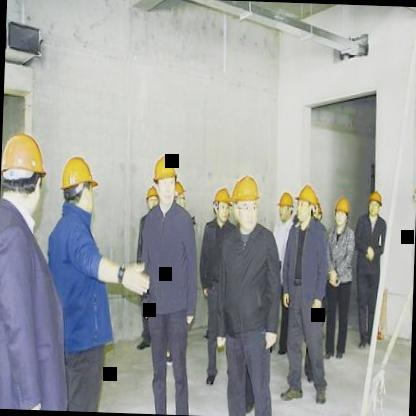helmet: (0, 131, 51, 217), (58, 156, 100, 216), (230, 173, 263, 231), (150, 154, 180, 204), (299, 183, 322, 230), (211, 184, 232, 226), (274, 186, 294, 228), (330, 194, 351, 231), (365, 186, 384, 221), (142, 185, 161, 215), (172, 182, 188, 216)
